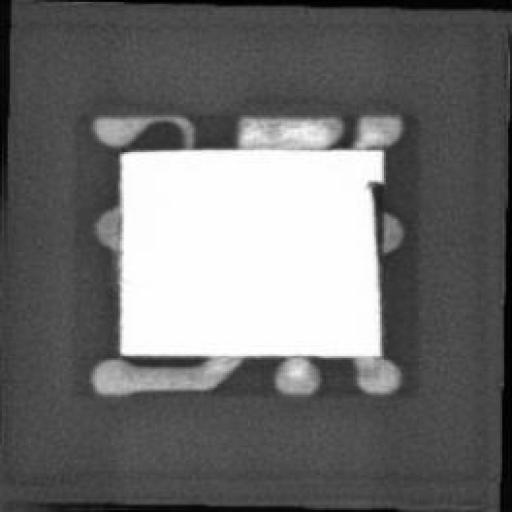DIE_BROKEN: (363, 174, 384, 262)
